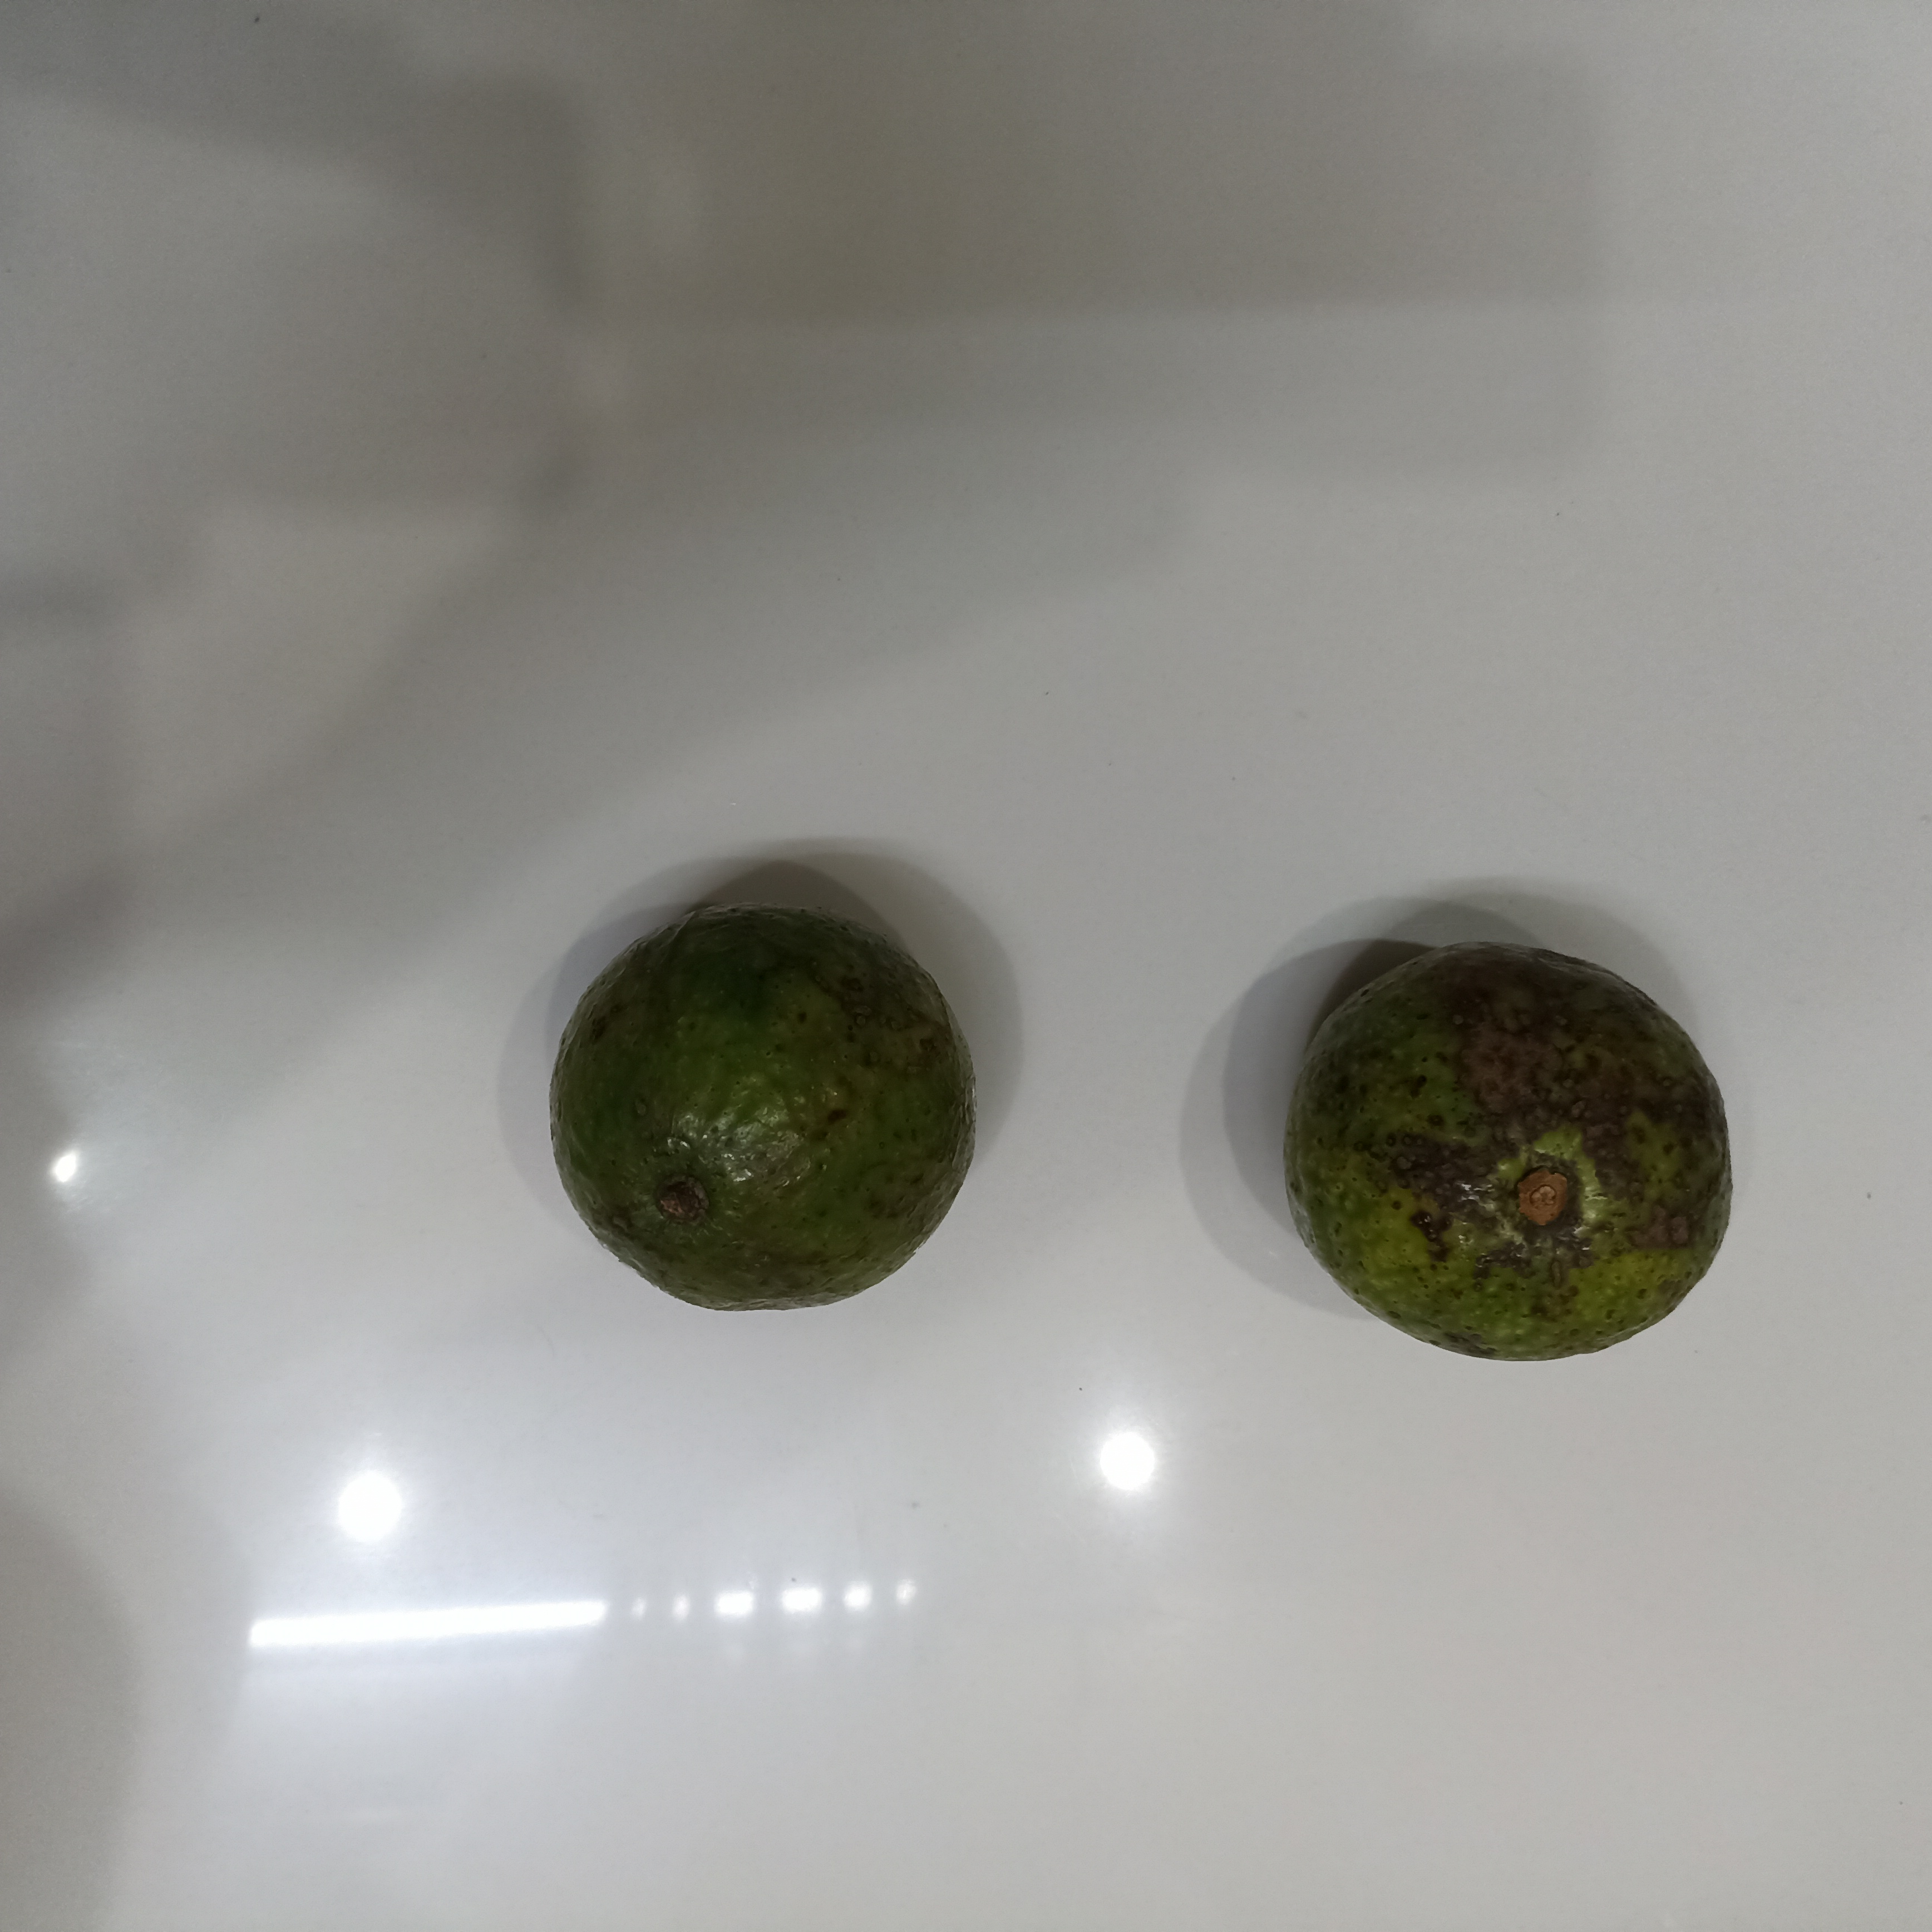Bo: (1286, 943, 1730, 1366), (545, 895, 978, 1318)
